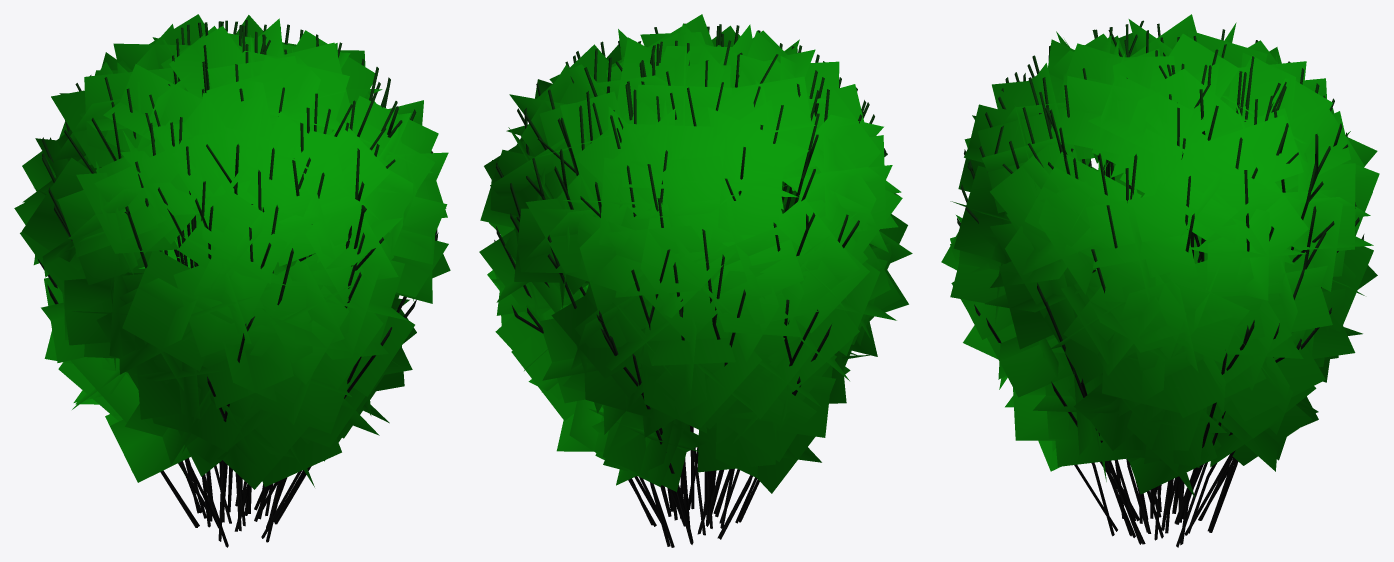
The model's file is IL3DN_Shrub_Round_03_OneMesh.FBX.
3 renders of one model, left to right at view 1: azimuth 30°, elevation 25°; view 2: azimuth 150°, elevation 25°; view 3: azimuth 270°, elevation 25°, orthographic.
Parts seen in each view (by area): view 1: IL3DN_Shrub_Round_03_LOD0; view 2: IL3DN_Shrub_Round_03_LOD0; view 3: IL3DN_Shrub_Round_03_LOD0.
Boxes of the visible parts, x1=… form: IL3DN_Shrub_Round_03_LOD0: x1=14, y1=14, x2=450, y2=547; IL3DN_Shrub_Round_03_LOD0: x1=479, y1=14, x2=912, y2=547; IL3DN_Shrub_Round_03_LOD0: x1=941, y1=14, x2=1379, y2=547.
Size of what is drawn, in the model's own units: 72.12 by 89.77 by 71.58.
